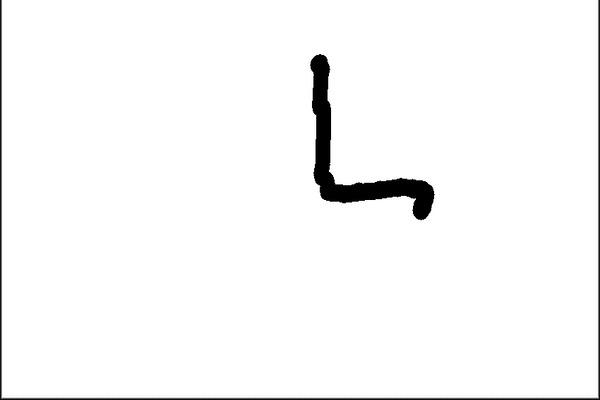L: (302, 47, 436, 224)
